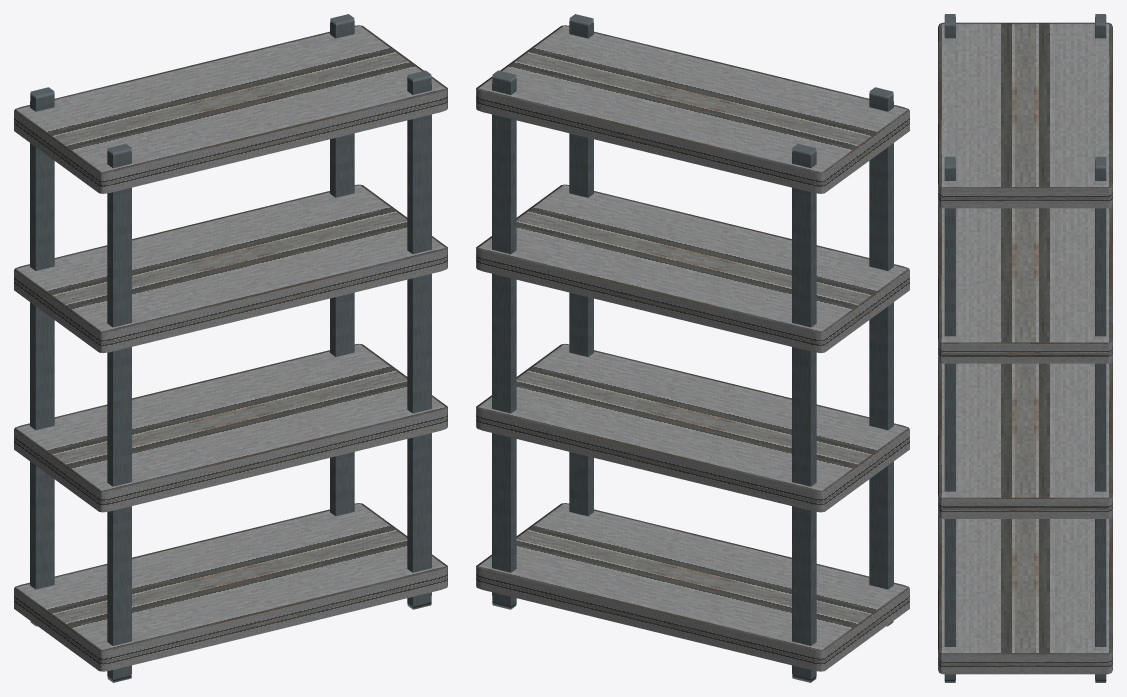
File: drying-rack.glb
3 renders of one model, left to right at view 1: azimuth 30°, elevation 25°; view 2: azimuth 150°, elevation 25°; view 3: azimuth 270°, elevation 25°, orthographic. The views are drawn at different scales.
Parts seen in each view (by area): view 1: shelf (×4), leg (×4); view 2: shelf (×4), leg (×4); view 3: shelf (×4), leg (×4).
Part boxes in pixels (x1,y1,x2,y2): shelf (×4): [14, 25, 447, 671]; leg (×4): [30, 14, 431, 682]; shelf (×4): [476, 25, 909, 671]; leg (×4): [492, 14, 893, 682]; shelf (×4): [938, 22, 1112, 674]; leg (×4): [944, 14, 1106, 682].
Bounding box in the file's own units: 1.1 × 1.6 × 0.49.
Materials: 2 (2 with a texture image).
